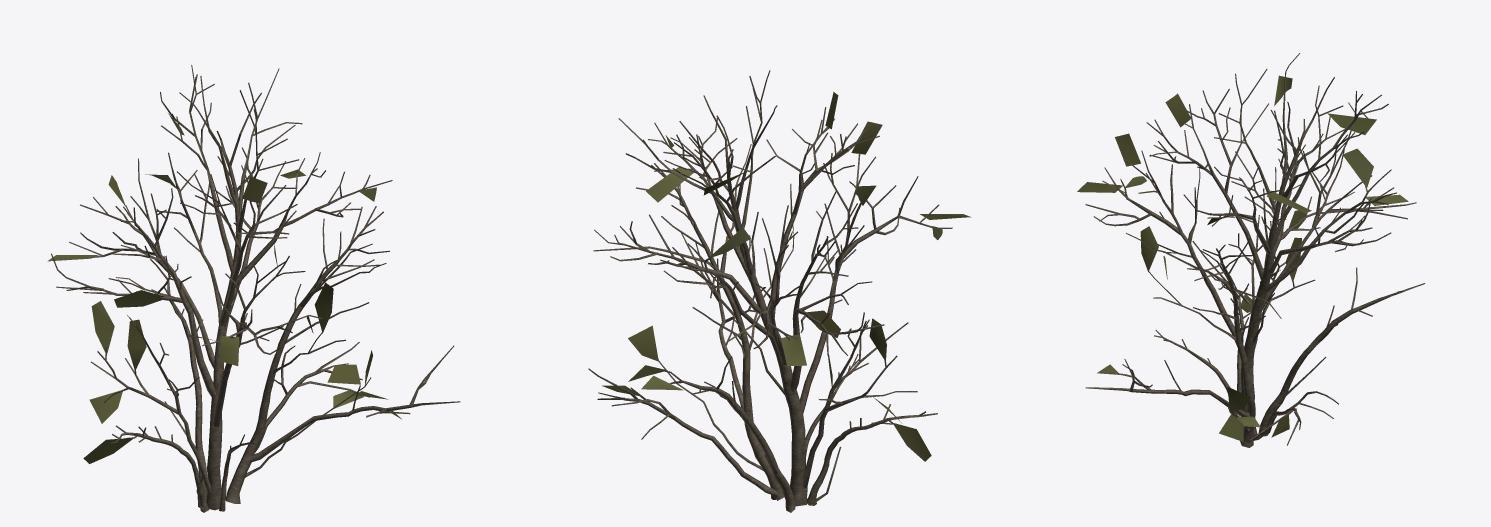
File: SM_BlackAlder_Field_05_PP_LOD5.gltf
The picture shows the model from 3 angles, left to right: view 1: azimuth 30°, elevation 25°; view 2: azimuth 150°, elevation 25°; view 3: azimuth 270°, elevation 25°; orthographic projection. The views are drawn at different scales.
Parts seen in each view (by area): view 1: SM_BlackAlder_Field_05_PP; view 2: SM_BlackAlder_Field_05_PP; view 3: SM_BlackAlder_Field_05_PP.
Part boxes in pixels (bbox=[...]): SM_BlackAlder_Field_05_PP: bbox=[47, 65, 460, 512]; SM_BlackAlder_Field_05_PP: bbox=[588, 70, 970, 512]; SM_BlackAlder_Field_05_PP: bbox=[1077, 53, 1425, 447].
Bounding box in the file's own units: 6.74 × 7.45 × 7.01.
2 materials, 2 textured.
